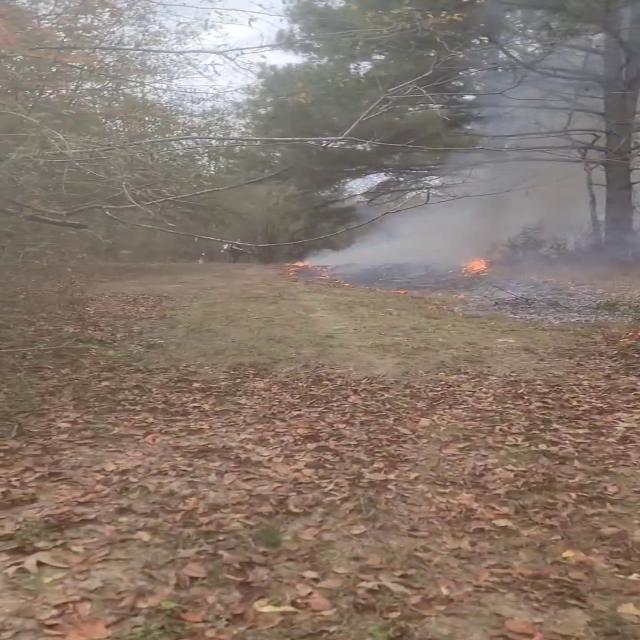Fire: (458, 252, 492, 278)
Smoke: (307, 0, 638, 301)
